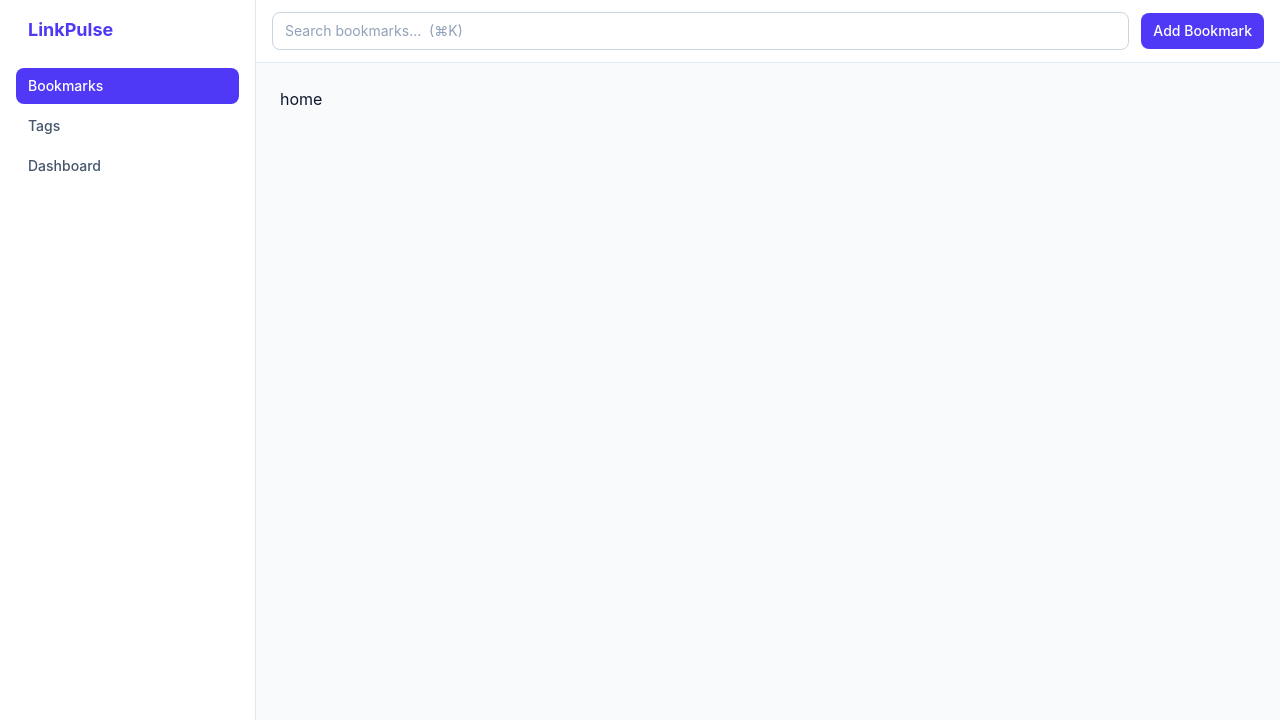
Scenario: the add bookmark button opens the modal
Click the button "Add Bookmark" at (1203, 31), box top-left (1141, 13), bottom-right (1264, 49)
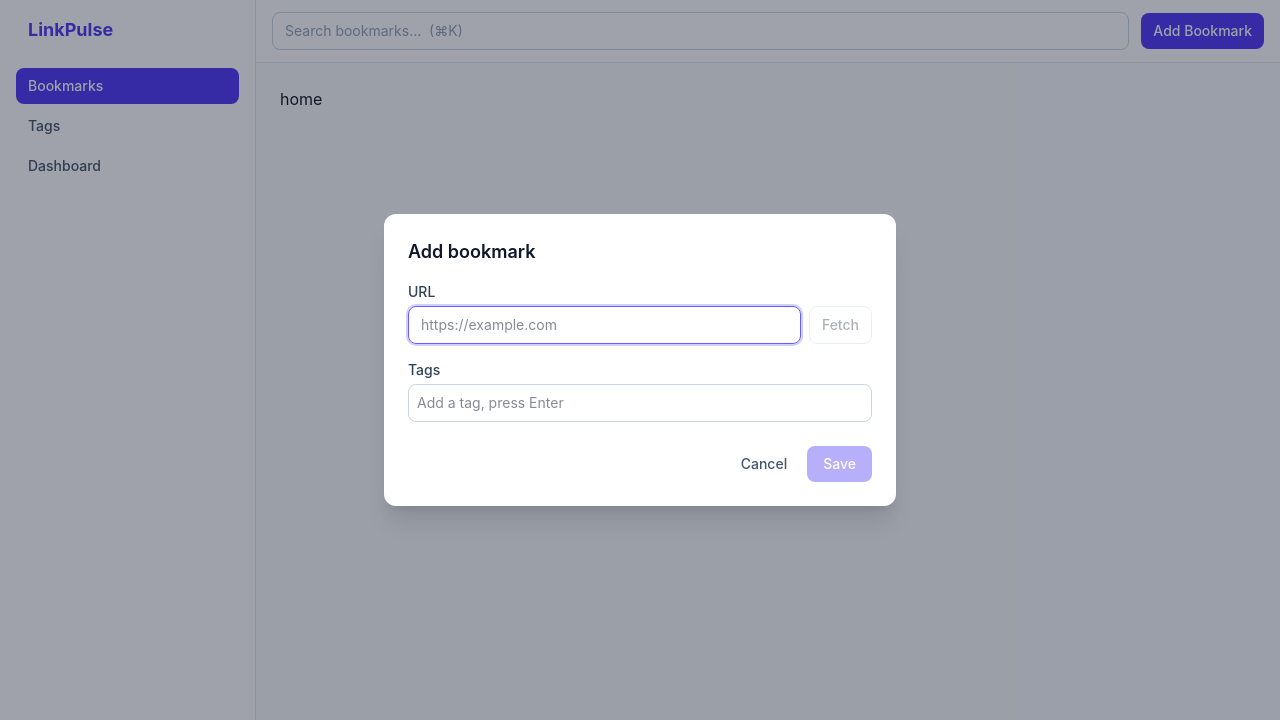
Check: the dialog is shown, box top-left (384, 214), bottom-right (896, 506)
